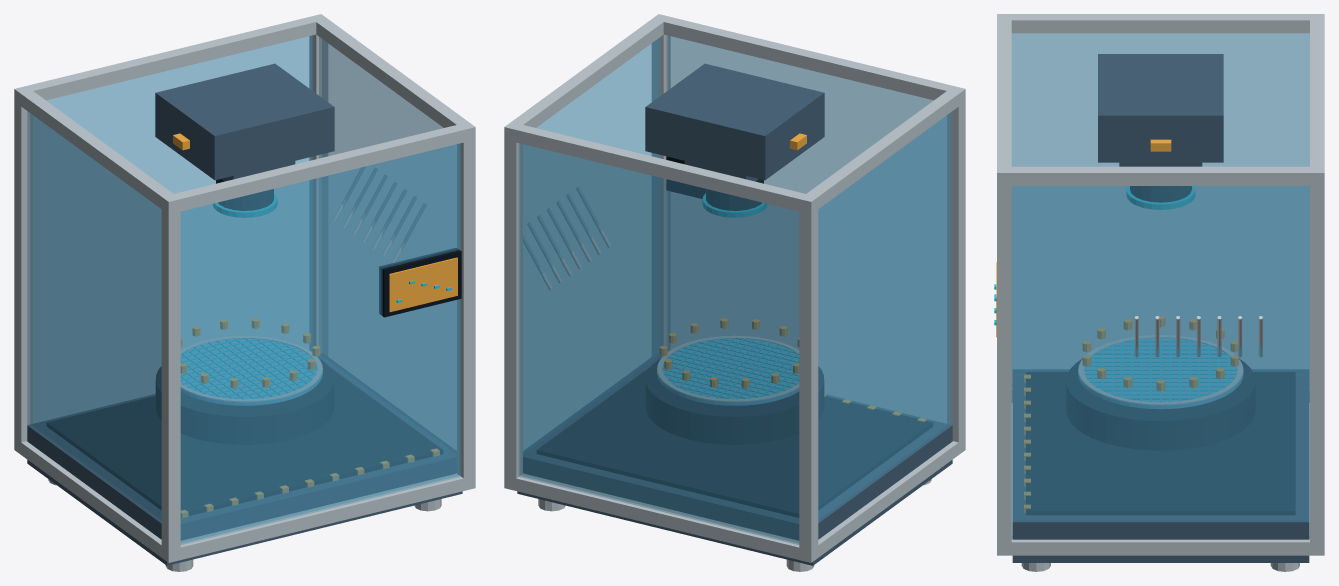
The model's file is 50_L79_BondSeamInspectionCamera.fbx.
The picture shows the model from 3 angles, left to right: view 1: azimuth 30°, elevation 25°; view 2: azimuth 150°, elevation 25°; view 3: azimuth 270°, elevation 25°; orthographic projection. The views are drawn at different scales.
Visible parts, largest first — view 1: BondSeamInspectionCamera, BondSeamInspectionCamera_Part_0105; view 2: BondSeamInspectionCamera, BondSeamInspectionCamera_Part_0105; view 3: BondSeamInspectionCamera, BondSeamInspectionCamera_Part_0105, BondSeamInspectionCamera_Part_0106.
Boxes of the visible parts, left/top/right/bottom form: BondSeamInspectionCamera: left=14, top=14, right=475, bottom=571; BondSeamInspectionCamera_Part_0105: left=216, top=179, right=273, bottom=210; BondSeamInspectionCamera: left=504, top=14, right=965, bottom=571; BondSeamInspectionCamera_Part_0105: left=706, top=179, right=763, bottom=210; BondSeamInspectionCamera: left=994, top=14, right=1324, bottom=571; BondSeamInspectionCamera_Part_0105: left=1130, top=186, right=1191, bottom=202; BondSeamInspectionCamera_Part_0106: left=1126, top=186, right=1194, bottom=209.
Bounding box in the file's own units: 230 × 267 × 192.
